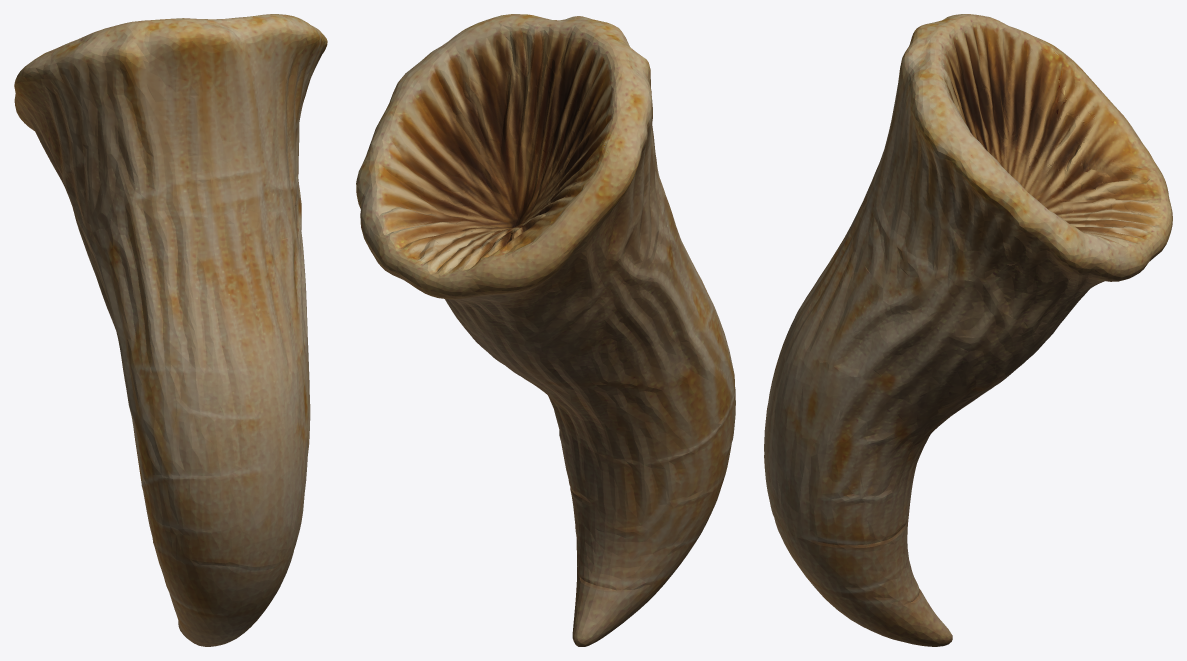
The picture shows the model from 3 angles, left to right: view 1: azimuth 30°, elevation 25°; view 2: azimuth 150°, elevation 25°; view 3: azimuth 270°, elevation 25°; orthographic projection.
Parts seen in each view (by area): view 1: world; view 2: world; view 3: world.
Part boxes in pixels (<box>): world: <box>14,14,327,646</box>; world: <box>356,14,735,646</box>; world: <box>764,14,1172,646</box>.
Size of the model in its own units: 0.0555 by 0.12 by 0.0725.
Materials: 1 (1 with a texture image).
